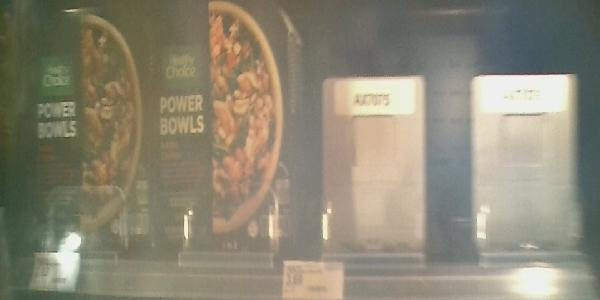pizza1: (158, 1, 303, 255), (18, 2, 160, 259)
